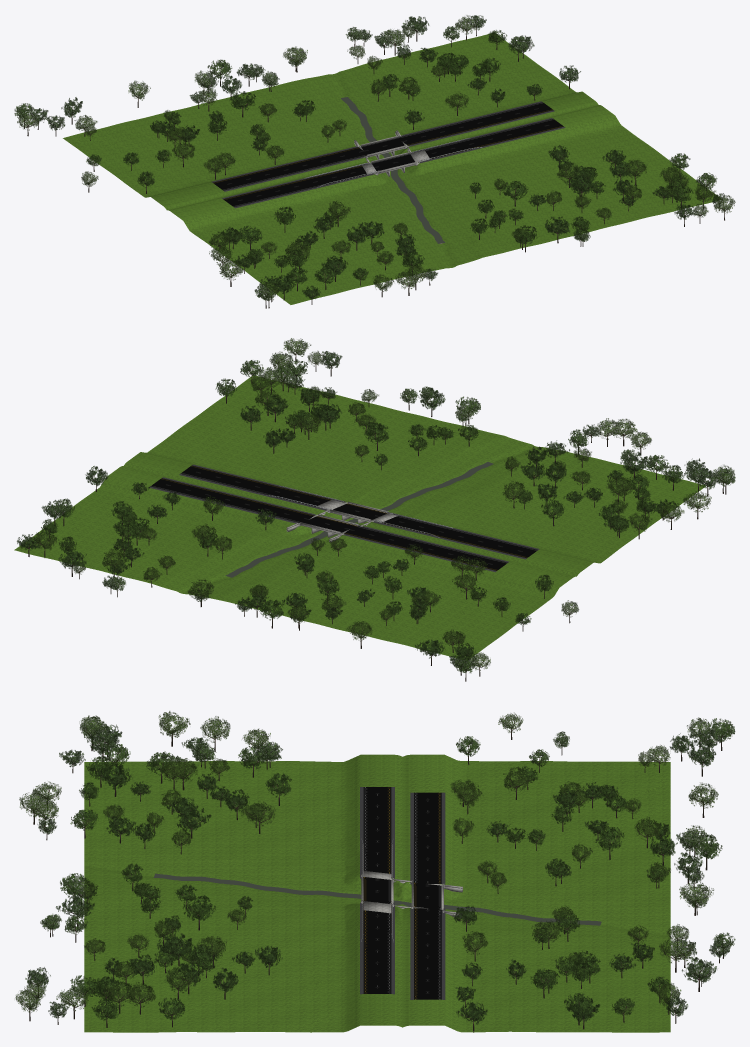
Rendered from bridge_41750_lite.glb.
3 views of the same model, one above another, from view 1: azimuth 30°, elevation 25°; view 2: azimuth 150°, elevation 25°; view 3: azimuth 270°, elevation 25° (orthographic). The views are drawn at different scales.
Visible parts, largest first — view 1: TerrainOuter, TerrainInner, Approach1.001, Approach0.001, Approach0, Approach1, Water; view 2: TerrainOuter, TerrainInner, Approach0.001, Approach1.001, Approach0, Approach1, Water; view 3: TerrainOuter, TerrainInner, TreeLeaves1 (×5), Approach0.001, Approach1.001, Approach0, Approach1, Water, TreeLeaves2 (×3), TreeLeaves0 (×2), DeckSurface, DeckSurface.001.
Part boxes in pixels (bbox=[...]): TerrainOuter: bbox=[63, 33, 720, 304]; TerrainInner: bbox=[319, 139, 487, 206]; Approach1.001: bbox=[399, 102, 553, 145]; Approach0.001: bbox=[213, 147, 366, 190]; Approach0: bbox=[223, 165, 367, 206]; Approach1: bbox=[424, 118, 563, 159]; Water: bbox=[341, 97, 445, 243]; TerrainOuter: bbox=[14, 375, 705, 659]; TerrainInner: bbox=[264, 477, 457, 555]; Approach0.001: bbox=[344, 526, 507, 570]; Approach1.001: bbox=[150, 478, 314, 522]; Approach0: bbox=[381, 516, 537, 558]; Approach1: bbox=[180, 465, 331, 506]; Water: bbox=[225, 462, 493, 577]; TerrainOuter: bbox=[84, 754, 670, 1032]; TerrainInner: bbox=[293, 852, 461, 936]; TreeLeaves1 (×5): bbox=[159, 711, 713, 963]; Approach0.001: bbox=[414, 792, 441, 883]; Approach1.001: bbox=[414, 908, 441, 999]; Approach0: bbox=[363, 787, 391, 873]; Approach1: bbox=[363, 910, 391, 993]; Water: bbox=[153, 873, 601, 925]; TreeLeaves2 (×3): bbox=[56, 764, 716, 983]; TreeLeaves0 (×2): bbox=[182, 834, 722, 920]; DeckSurface: bbox=[363, 877, 391, 903]; DeckSurface.001: bbox=[414, 882, 441, 909].
Size of the model in its own units: 1028 by 59.67 by 1034.
15 materials, 12 textured.
